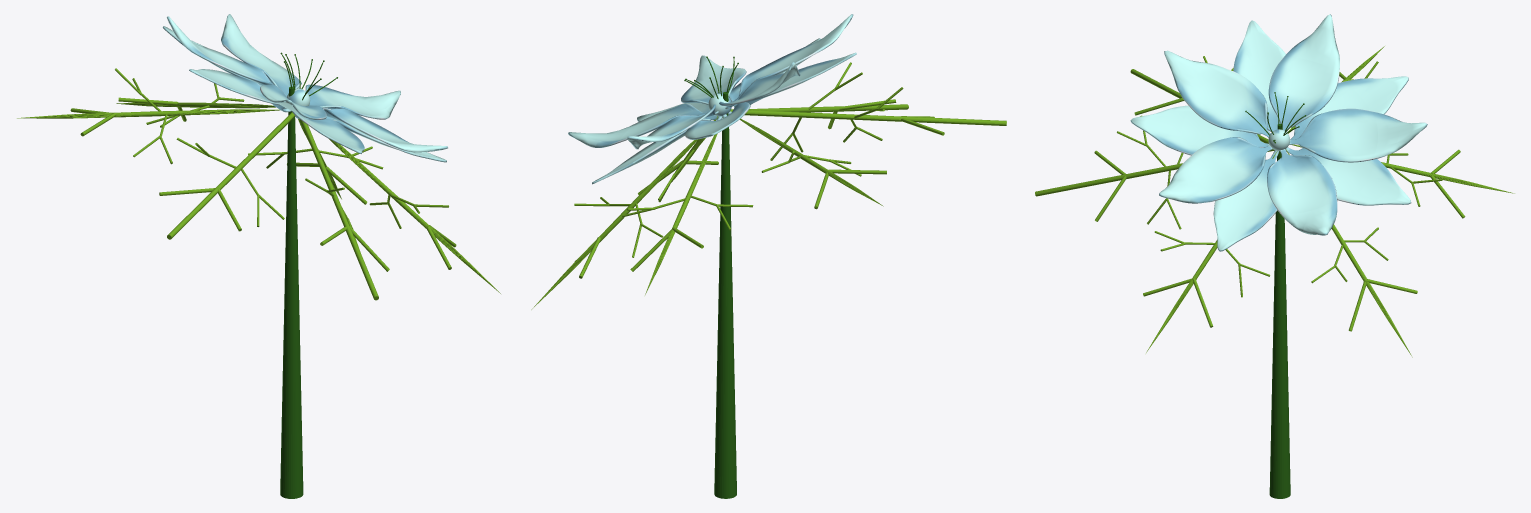
3 renders of one model, left to right at view 1: azimuth 30°, elevation 25°; view 2: azimuth 150°, elevation 25°; view 3: azimuth 270°, elevation 25°, orthographic. The views are drawn at different scales.
Visible parts, largest first — view 1: f11; view 2: f11; view 3: f11.
Boxes of the visible parts, box(x1,y1,x2,y2) form: f11: box(17, 14, 500, 498); f11: box(531, 14, 1006, 498); f11: box(1035, 14, 1514, 498).
Size of the model in its own units: 0.4956 by 0.6398 by 0.6384.
Materials: 4 (1 with a texture image).
